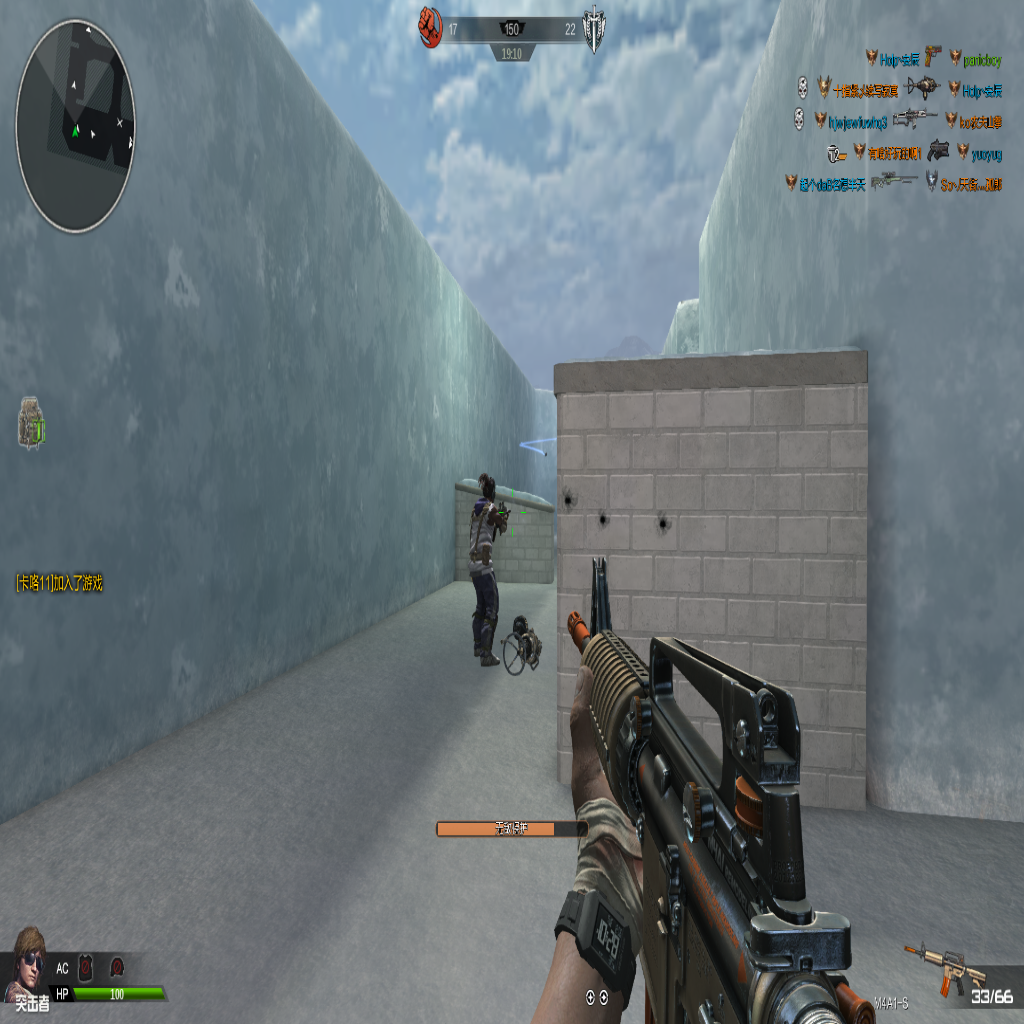tt: (468, 475, 511, 668)
